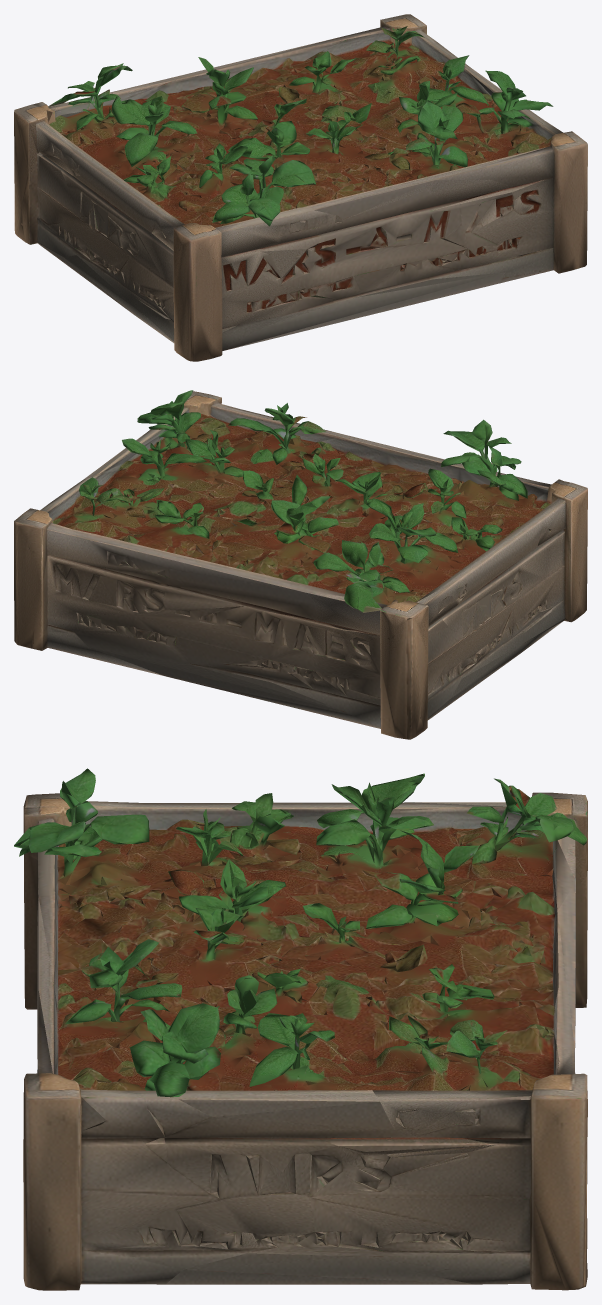
File: plot.glb
3 renders of one model, top to bottom at view 1: azimuth 30°, elevation 25°; view 2: azimuth 150°, elevation 25°; view 3: azimuth 270°, elevation 25°, orthographic. The views are drawn at different scales.
Visible parts, largest first — view 1: mesh_node; view 2: mesh_node; view 3: mesh_node.
Boxes of the visible parts, x1,y1,x2,y2 form: mesh_node: (14, 14, 587, 361); mesh_node: (14, 390, 587, 739); mesh_node: (14, 768, 587, 1290).
Size of the model in its own units: 0.5964 by 0.25 by 0.4654.
Materials: 1 (1 with a texture image).
